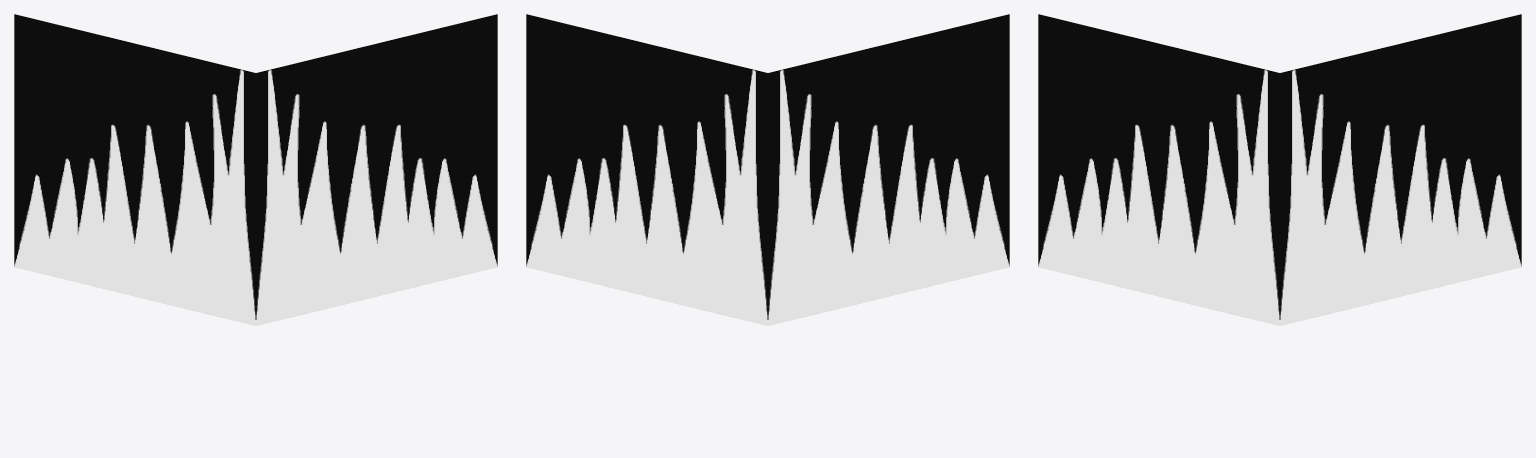
Rendered from grass.glb.
3 views of the same model, side by side, from view 1: azimuth 30°, elevation 25°; view 2: azimuth 150°, elevation 25°; view 3: azimuth 270°, elevation 25° (orthographic).
Parts seen in each view (by area): view 1: Plane; view 2: Plane; view 3: Plane.
Boxes of the visible parts, x1,y1,x2,y2 form: Plane: (14, 14, 497, 325); Plane: (526, 14, 1009, 325); Plane: (1038, 14, 1521, 325).
Bounding box in the file's own units: 0.75 × 0.5 × 0.866.
Materials: 1 (1 with a texture image).
